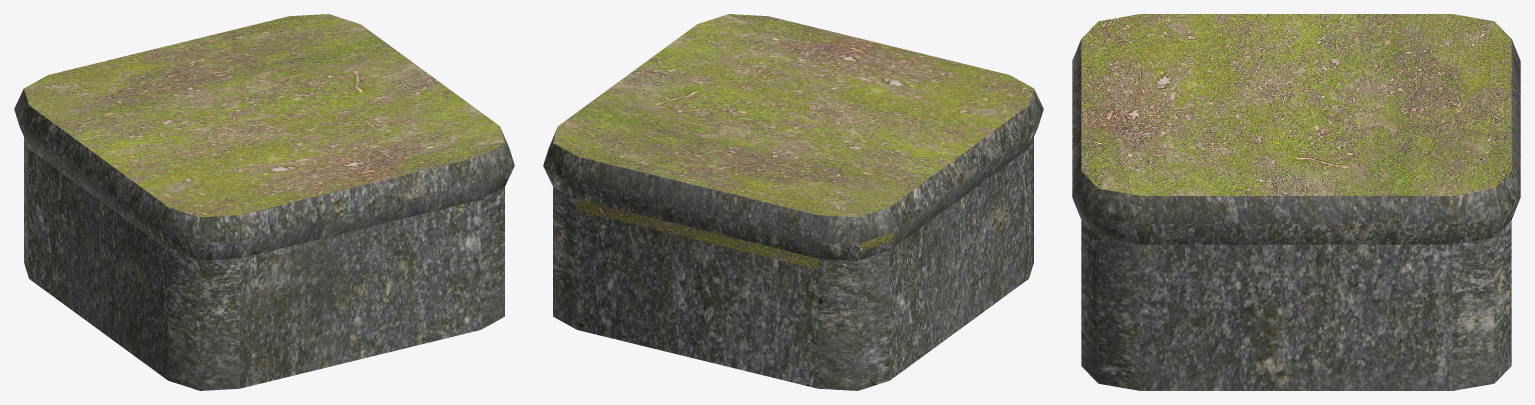
The picture shows the model from 3 angles, left to right: view 1: azimuth 30°, elevation 25°; view 2: azimuth 150°, elevation 25°; view 3: azimuth 270°, elevation 25°; orthographic projection. The views are drawn at different scales.
Parts seen in each view (by area): view 1: block-grass-large; view 2: block-grass-large; view 3: block-grass-large.
Part boxes in pixels (x1,y1,x2,y2): block-grass-large: (14,14,514,390); block-grass-large: (543,14,1043,390); block-grass-large: (1072,14,1520,390).
Bounding box in the file's own units: 2.08 × 1 × 2.08.
1 material, 1 textured.
